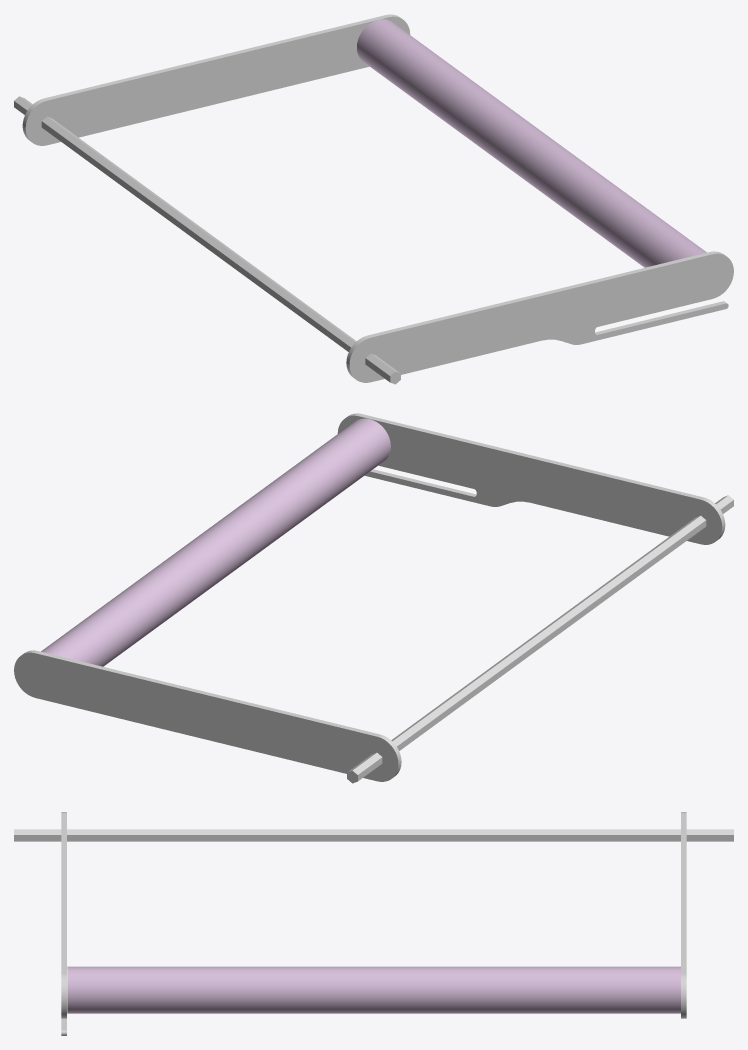
3 views of the same model, one above another, from view 1: azimuth 30°, elevation 25°; view 2: azimuth 150°, elevation 25°; view 3: azimuth 270°, elevation 25° (orthographic). The views are drawn at different scales.
Visible parts, largest first — view 1: Part 3; view 2: Part 3; view 3: Part 3.
Part boxes in pixels (bbox=[...]): Part 3: bbox=[14, 14, 733, 384]; Part 3: bbox=[14, 413, 733, 783]; Part 3: bbox=[14, 812, 733, 1035].
Size of the model in its own units: 0.4572 by 0.066 by 0.7747.
